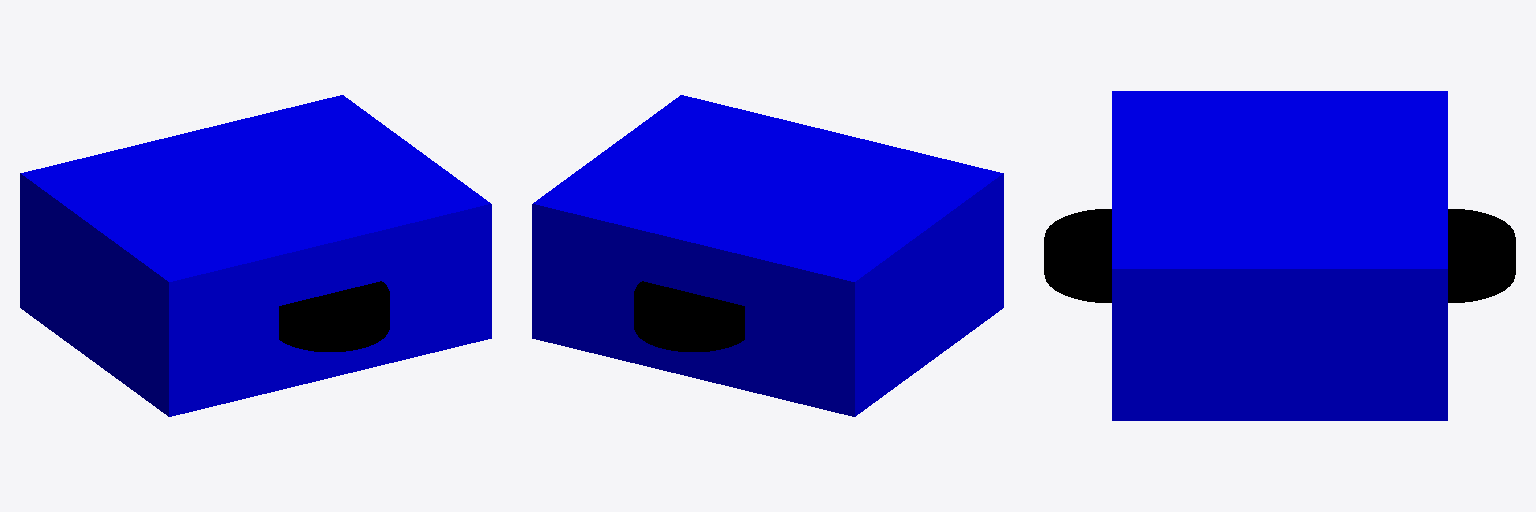
URDF robot description (diffbot):
<?xml version="1.0"?>
<robot name="diffbot" xmlns:xacro="http://ros.org/wiki/xacro">

    <!-- Base Link -->
    <link name="base_link">
        <visual>
            <geometry>
                <box size="0.5 0.4 0.2" />
            </geometry>
            <material name="blue">
                <color rgba="0.0 0.0 1.0 1.0" />
            </material>
        </visual>
        <collision>
            <geometry>
                <box size="0.5 0.4 0.2" />
            </geometry>
        </collision>
        <inertial>
            <mass value="10.0" />
            <origin xyz="0 0 0" />
            <inertia ixx="1" ixy="0" ixz="0" iyy="1" iyz="0" izz="1" />
        </inertial>
    </link>

    <!-- Left Wheel Link -->
    <link name="left_wheel_link">
        <visual>
            <geometry>
                <cylinder length="0.05" radius="0.08" />
            </geometry>
            <material name="black">
                <color rgba="0.0 0.0 0.0 1.0" />
            </material>
        </visual>
        <collision>
            <geometry>
                <cylinder length="0.05" radius="0.08" />
            </geometry>
        </collision>
        <inertial>
            <mass value="1" />
            <origin xyz="0 0 0" />
            <inertia ixx="0.01" ixy="0" ixz="0" iyy="0.01" iyz="0" izz="0.01" />
        </inertial>
    </link>

    <!-- Right Wheel Link -->
    <link name="right_wheel_link">
        <visual>
            <geometry>
                <cylinder length="0.05" radius="0.08" />
            </geometry>
            <material name="black">
                <color rgba="0.0 0.0 0.0 1.0" />
            </material>
        </visual>
        <collision>
            <geometry>
                <cylinder length="0.05" radius="0.08" />
            </geometry>
        </collision>
        <inertial>
            <mass value="1" />
            <origin xyz="0 0 0" />
            <inertia ixx="0.01" ixy="0" ixz="0" iyy="0.01" iyz="0" izz="0.01" />
        </inertial>
    </link>

    <!-- Left Wheel Joint -->
    <joint name="left_wheel_joint" type="continuous">
        <parent link="base_link" />
        <child link="left_wheel_link" />
        <origin xyz="0 0.2 0" rpy="0 0 0" />
        <axis xyz="0 0 1" />
    </joint>

    <!-- Right Wheel Joint -->
    <joint name="right_wheel_joint" type="continuous">
        <parent link="base_link" />
        <child link="right_wheel_link" />
        <origin xyz="0 -0.2 0" rpy="0 0 0" />
        <axis xyz="0 0 1" />
    </joint>

    <!-- Gazebo Plugin for Differential Drive -->
<gazebo>
  <plugin name="diff_drive_controller" filename="libgazebo_ros_diff_drive.so">
    <!-- Names of the joints -->
    <left_joint>left_wheel_joint</left_joint>
    <right_joint>right_wheel_joint</right_joint>

    <!-- Topic on which velocity commands will be received -->
    <command_topic>cmd_vel</command_topic>
    
    <!-- Publish odometry on /odom -->
    <odometry_topic>odom</odometry_topic>
    <odometry_frame>odom</odometry_frame>

    <!-- TF for odom->base_link transform -->
    <robot_base_frame>base_link</robot_base_frame>

    <!-- Wheel separation & radius (should match URDF) -->
    <wheel_separation>0.4</wheel_separation>
    <wheel_radius>0.08</wheel_radius>

    <!-- Plugin parameters -->
    <update_rate>50</update_rate>
    <publish_tf>true</publish_tf>
  </plugin>
</gazebo>

</robot>

--- What the picture shows (computed from the rendered views, not written in the file) ---
The picture shows the robot from 3 angles, left to right: view 1: azimuth 30°, elevation 25°; view 2: azimuth 150°, elevation 25°; view 3: azimuth 270°, elevation 25°; orthographic projection.
Robot: diffbot — 3 links, 2 joints (2 continuous); root link base_link; default pose: every joint at zero.
Visible links, largest first — view 1: base_link, right_wheel_link; view 2: base_link, left_wheel_link; view 3: base_link, left_wheel_link, right_wheel_link.
Link boxes in pixels (x1,y1,x2,y2): base_link: (20,95,491,416); right_wheel_link: (279,281,389,351); base_link: (532,95,1003,416); left_wheel_link: (634,281,744,351); base_link: (1112,91,1447,420); left_wheel_link: (1448,209,1515,302); right_wheel_link: (1044,209,1111,302).
Bounding box of the posed robot: 0.5 × 0.56 × 0.2 m (x, y, z).
Geometry: primitives only (box / cylinder / sphere), no mesh files.